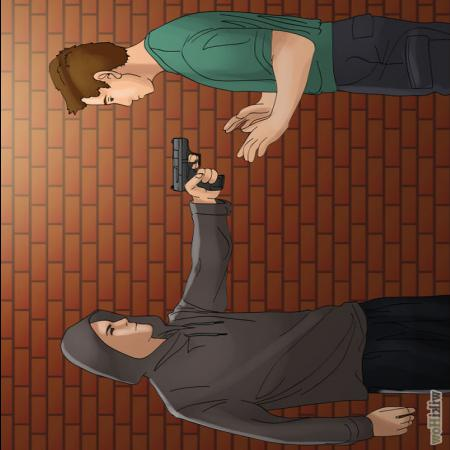Pistol: (166, 138, 226, 195)
